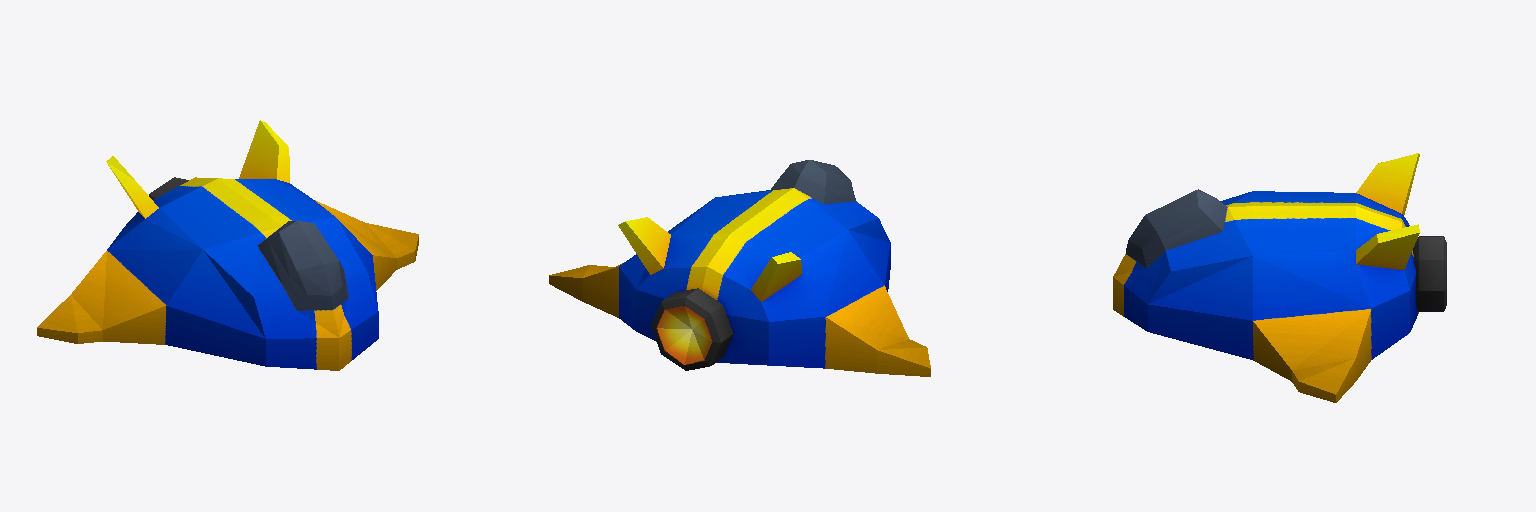
3 renders of one model, left to right at view 1: azimuth 30°, elevation 25°; view 2: azimuth 150°, elevation 25°; view 3: azimuth 270°, elevation 25°, orthographic.
Parts seen in each view (by area): view 1: nave; view 2: nave; view 3: nave.
Boxes of the visible parts, box(x1,y1,x2,y2) form: nave: box(37, 120, 418, 370); nave: box(549, 160, 930, 376); nave: box(1113, 153, 1446, 402).
Size of the model in its own units: 3.86 by 1.3 by 2.92.
1 materials, 1 textured.